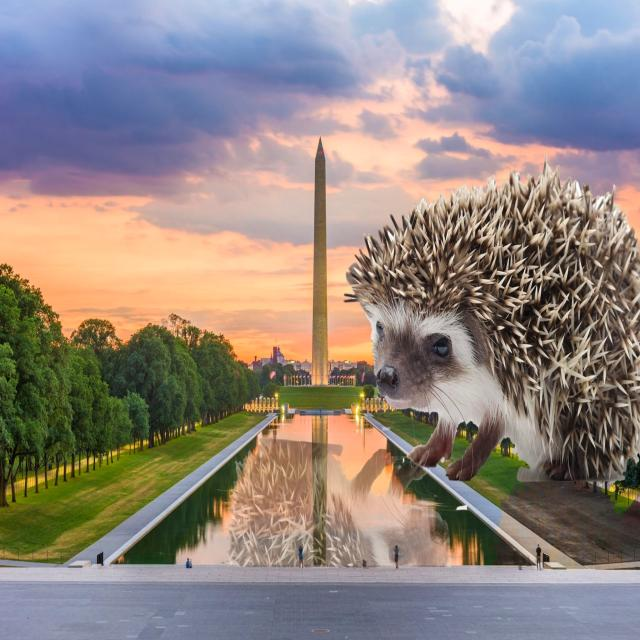hedgehog: (346, 164, 640, 480)
